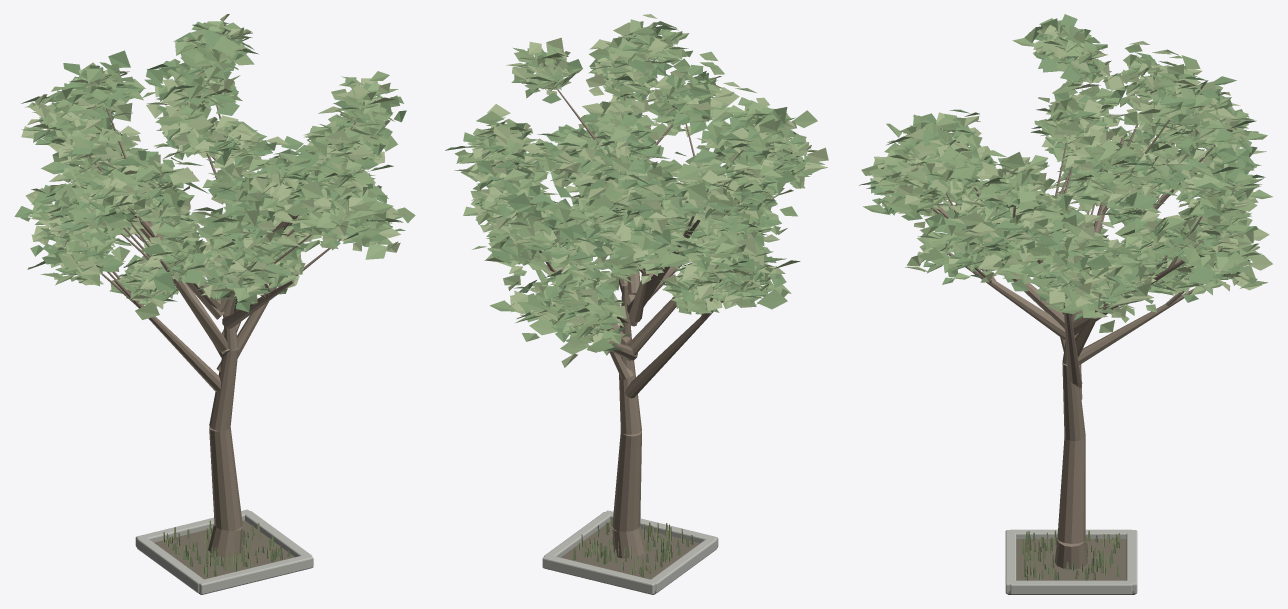
Rendered from r6b2c-lipa-9m.glb.
3 renders of one model, left to right at view 1: azimuth 30°, elevation 25°; view 2: azimuth 150°, elevation 25°; view 3: azimuth 270°, elevation 25°, orthographic.
Parts seen in each view (by area): view 1: Lipa uliczna okolo 9 m R6C Liscie lipa 0, Lipa uliczna okolo 9 m R6C Liscie lipa 2, Lipa uliczna okolo 9 m R6C Liscie lipa 1, Lipa uliczna okolo 9 m R6C Liscie lipa 3, Lipa uliczna okolo 9 m R6C Kora lipa, Lipa uliczna okolo 9 m R6C Ciosany kamien lipa, Lipa uliczna okolo 9 m R6C Ciemna ziemia lipa, Lipa uliczna okolo 9 m R6C Runo lipa 0, Lipa uliczna okolo 9 m R6C Runo lipa 1; view 2: Lipa uliczna okolo 9 m R6C Liscie lipa 0, Lipa uliczna okolo 9 m R6C Liscie lipa 3, Lipa uliczna okolo 9 m R6C Liscie lipa 2, Lipa uliczna okolo 9 m R6C Liscie lipa 1, Lipa uliczna okolo 9 m R6C Kora lipa, Lipa uliczna okolo 9 m R6C Ciosany kamien lipa, Lipa uliczna okolo 9 m R6C Ciemna ziemia lipa, Lipa uliczna okolo 9 m R6C Runo lipa 1, Lipa uliczna okolo 9 m R6C Runo lipa 0; view 3: Lipa uliczna okolo 9 m R6C Liscie lipa 0, Lipa uliczna okolo 9 m R6C Liscie lipa 1, Lipa uliczna okolo 9 m R6C Liscie lipa 2, Lipa uliczna okolo 9 m R6C Liscie lipa 3, Lipa uliczna okolo 9 m R6C Kora lipa, Lipa uliczna okolo 9 m R6C Ciosany kamien lipa, Lipa uliczna okolo 9 m R6C Ciemna ziemia lipa, Lipa uliczna okolo 9 m R6C Runo lipa 1, Lipa uliczna okolo 9 m R6C Runo lipa 0.
Part boxes in pixels (left/top/right/bottom): Lipa uliczna okolo 9 m R6C Liscie lipa 0: left=20, top=22, right=415, bottom=307; Lipa uliczna okolo 9 m R6C Liscie lipa 2: left=21, top=14, right=408, bottom=309; Lipa uliczna okolo 9 m R6C Liscie lipa 1: left=28, top=21, right=402, bottom=319; Lipa uliczna okolo 9 m R6C Liscie lipa 3: left=14, top=21, right=406, bottom=312; Lipa uliczna okolo 9 m R6C Kora lipa: left=89, top=102, right=358, bottom=557; Lipa uliczna okolo 9 m R6C Ciosany kamien lipa: left=135, top=509, right=313, bottom=594; Lipa uliczna okolo 9 m R6C Ciemna ziemia lipa: left=154, top=520, right=310, bottom=594; Lipa uliczna okolo 9 m R6C Runo lipa 0: left=166, top=520, right=290, bottom=576; Lipa uliczna okolo 9 m R6C Runo lipa 1: left=162, top=523, right=281, bottom=571; Lipa uliczna okolo 9 m R6C Liscie lipa 0: left=454, top=21, right=820, bottom=352; Lipa uliczna okolo 9 m R6C Liscie lipa 3: left=445, top=25, right=824, bottom=342; Lipa uliczna okolo 9 m R6C Liscie lipa 2: left=454, top=14, right=828, bottom=367; Lipa uliczna okolo 9 m R6C Liscie lipa 1: left=459, top=19, right=817, bottom=355; Lipa uliczna okolo 9 m R6C Kora lipa: left=506, top=88, right=754, bottom=558; Lipa uliczna okolo 9 m R6C Ciosany kamien lipa: left=542, top=510, right=718, bottom=594; Lipa uliczna okolo 9 m R6C Ciemna ziemia lipa: left=545, top=521, right=717, bottom=594; Lipa uliczna okolo 9 m R6C Runo lipa 1: left=578, top=522, right=678, bottom=577; Lipa uliczna okolo 9 m R6C Runo lipa 0: left=573, top=518, right=693, bottom=575; Lipa uliczna okolo 9 m R6C Liscie lipa 0: left=863, top=18, right=1272, bottom=322; Lipa uliczna okolo 9 m R6C Liscie lipa 1: left=861, top=22, right=1261, bottom=332; Lipa uliczna okolo 9 m R6C Liscie lipa 2: left=872, top=25, right=1272, bottom=318; Lipa uliczna okolo 9 m R6C Liscie lipa 3: left=859, top=14, right=1265, bottom=320; Lipa uliczna okolo 9 m R6C Kora lipa: left=931, top=90, right=1215, bottom=569; Lipa uliczna okolo 9 m R6C Ciosany kamien lipa: left=1005, top=529, right=1137, bottom=594; Lipa uliczna okolo 9 m R6C Ciemna ziemia lipa: left=1007, top=539, right=1135, bottom=594; Lipa uliczna okolo 9 m R6C Runo lipa 1: left=1023, top=532, right=1120, bottom=580; Lipa uliczna okolo 9 m R6C Runo lipa 0: left=1022, top=530, right=1119, bottom=580.
Bounding box in the file's own units: 6 × 8.92 × 6.23.
